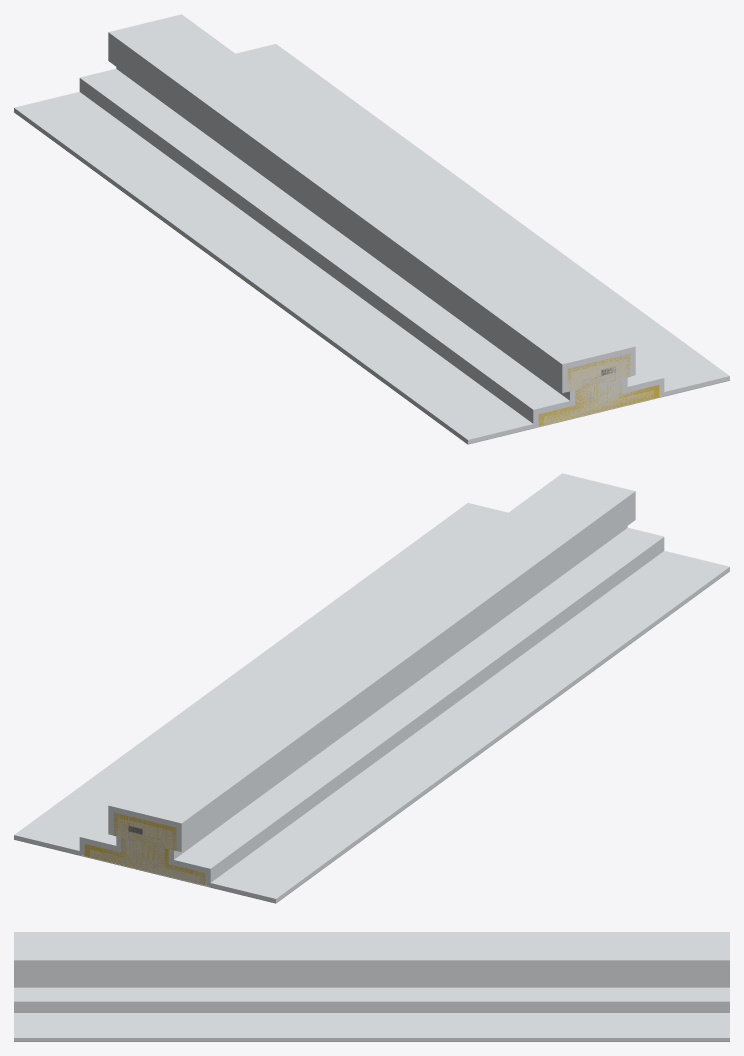
Rendered from standing-seam-F-9-TYP.glb.
3 renders of one model, top to bottom at view 1: azimuth 30°, elevation 25°; view 2: azimuth 150°, elevation 25°; view 3: azimuth 270°, elevation 25°, orthographic. The views are drawn at different scales.
Visible parts, largest first — view 1: topcoat__topcoat, topcoat__topcoat_pan_l, topcoat__topcoat_pan_r, primer__primer, flex__flex, existing__panel_pans; view 2: topcoat__topcoat, topcoat__topcoat_pan_l, topcoat__topcoat_pan_r, primer__primer, flex__flex, existing__panel_pans; view 3: topcoat__topcoat, topcoat__topcoat_pan_r, existing__panel_pans.
Part boxes in pixels (left/top/right/bottom): topcoat__topcoat: left=79, top=14, right=664, bottom=427; topcoat__topcoat_pan_l: left=14, top=92, right=534, bottom=443; topcoat__topcoat_pan_r: left=236, top=44, right=729, bottom=396; primer__primer: left=544, top=359, right=653, bottom=425; flex__flex: left=538, top=353, right=659, bottom=426; existing__panel_pans: left=14, top=112, right=729, bottom=444; topcoat__topcoat: left=79, top=473, right=664, bottom=886; topcoat__topcoat_pan_l: left=209, top=551, right=729, bottom=902; topcoat__topcoat_pan_r: left=14, top=503, right=507, bottom=855; primer__primer: left=90, top=818, right=199, bottom=884; flex__flex: left=84, top=812, right=205, bottom=884; existing__panel_pans: left=14, top=571, right=729, bottom=903; topcoat__topcoat: left=14, top=932, right=729, bottom=1012; topcoat__topcoat_pan_r: left=14, top=1013, right=729, bottom=1041; existing__panel_pans: left=14, top=1041, right=729, bottom=1041.
Size of the model in its own units: 0.6096 by 0.1327 by 1.83.
